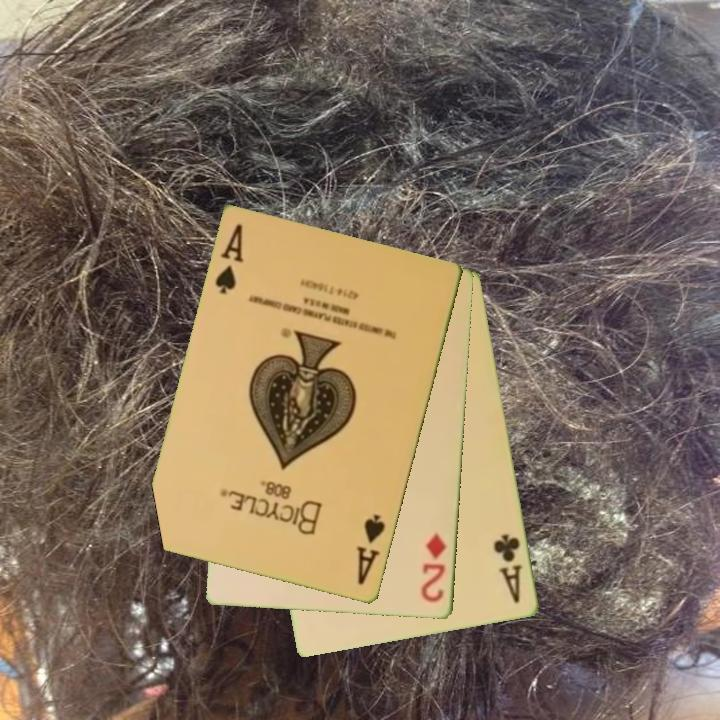2d: (418, 529, 450, 606)
Ac: (490, 530, 526, 607)
As: (353, 511, 389, 588), (212, 221, 247, 298)
